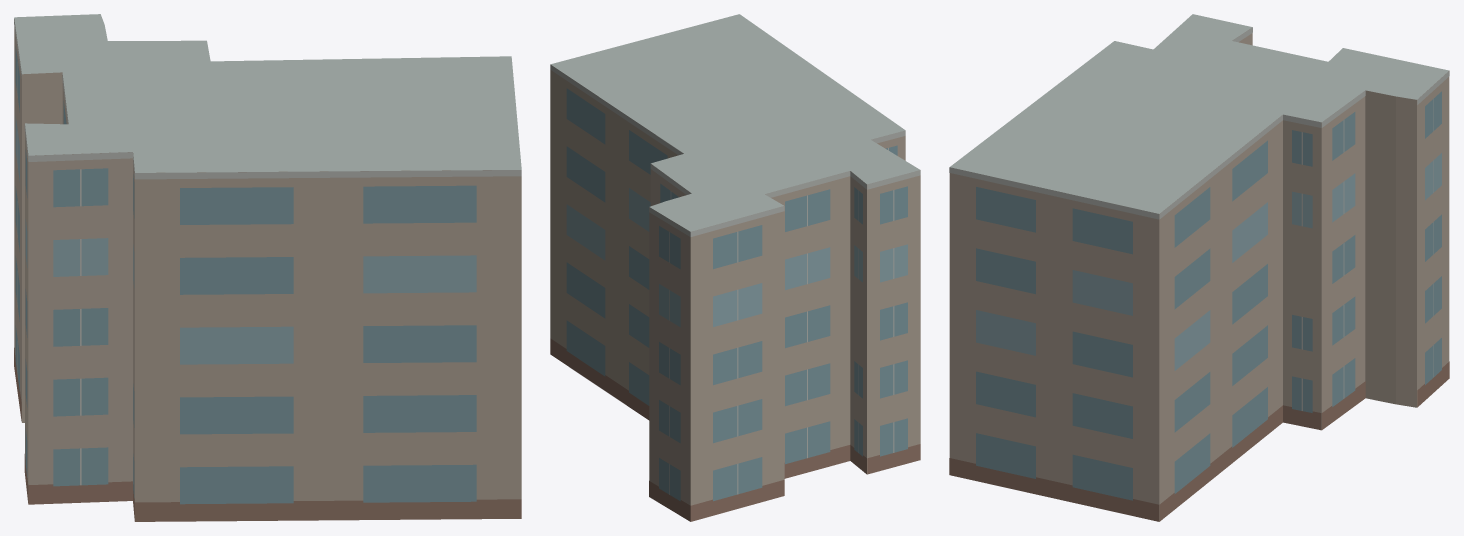
Rendered from survey-upis-32997025.glb.
3 views of the same model, side by side, from view 1: azimuth 30°, elevation 25°; view 2: azimuth 150°, elevation 25°; view 3: azimuth 270°, elevation 25° (orthographic). The views are drawn at different scales.
Parts seen in each view (by area): view 1: survey-upis-32997025.tmp; view 2: survey-upis-32997025.tmp; view 3: survey-upis-32997025.tmp.
Part boxes in pixels (box(x1,y1,x2,y2)): survey-upis-32997025.tmp: box(14, 14, 521, 521); survey-upis-32997025.tmp: box(550, 14, 920, 521); survey-upis-32997025.tmp: box(949, 14, 1449, 521).
Size of the model in its own units: 18.39 by 13.2 by 19.43.
